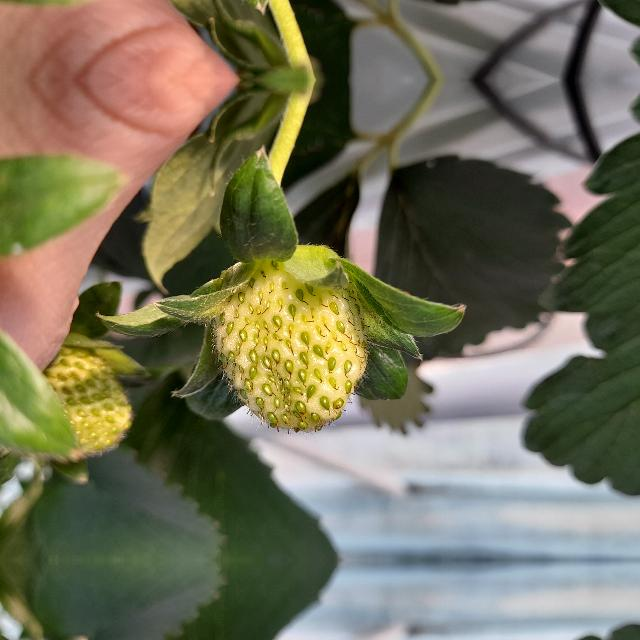Health_25: (215, 258, 368, 432), (24, 351, 134, 459)
